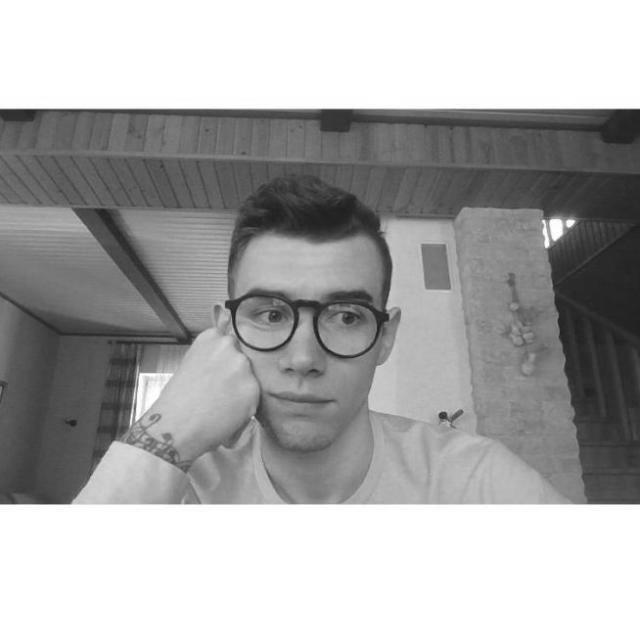real: (232, 236, 380, 452)
